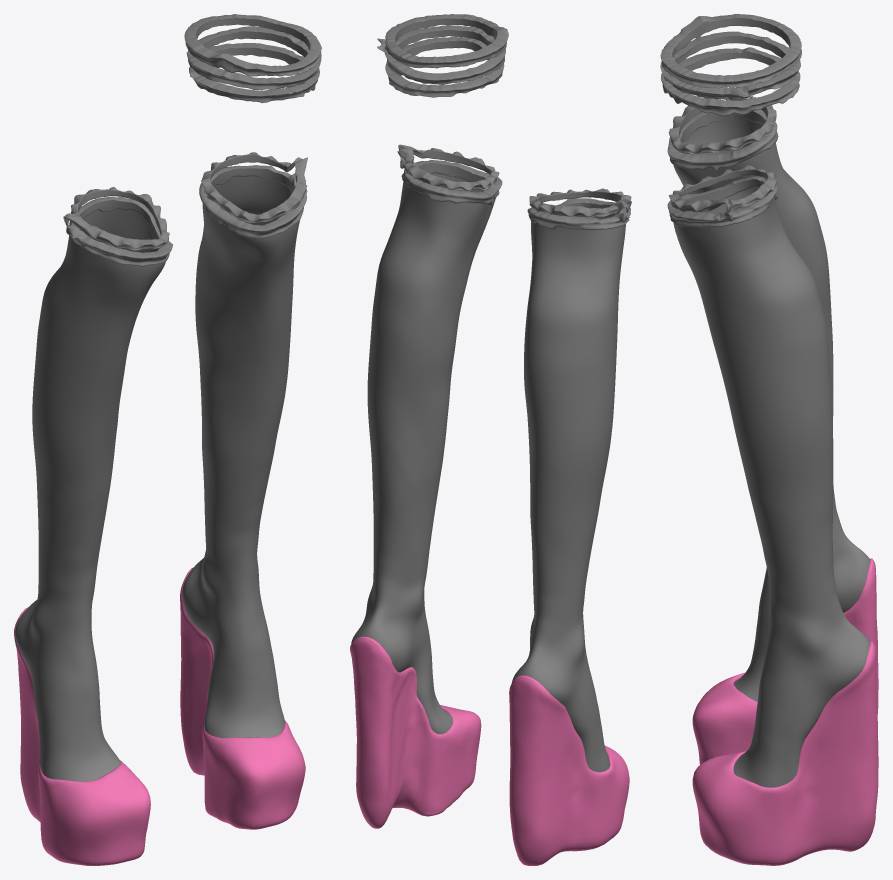
The model's file is frenchPreppy-shoes.fbx.
3 views of the same model, side by side, from view 1: azimuth 30°, elevation 25°; view 2: azimuth 150°, elevation 25°; view 3: azimuth 270°, elevation 25° (orthographic). The views are drawn at different scales.
Parts seen in each view (by area): view 1: tights1_1, heels1_1, leg-ribbons1; view 2: tights1_1, heels1_1, leg-ribbons1; view 3: tights1_1, heels1_1, leg-ribbons1.
Boxes of the visible parts, x1,y1,x2,y2 form: tights1_1: (15, 176, 299, 781); heels1_1: (14, 567, 305, 865); leg-ribbons1: (63, 14, 321, 266); tights1_1: (351, 173, 625, 772); heels1_1: (350, 636, 629, 865); leg-ribbons1: (377, 14, 631, 230); tights1_1: (673, 118, 870, 787); heels1_1: (692, 558, 878, 865); leg-ribbons1: (660, 14, 801, 227).
Size of the model in its own units: 1.91 by 5.62 by 1.37.
